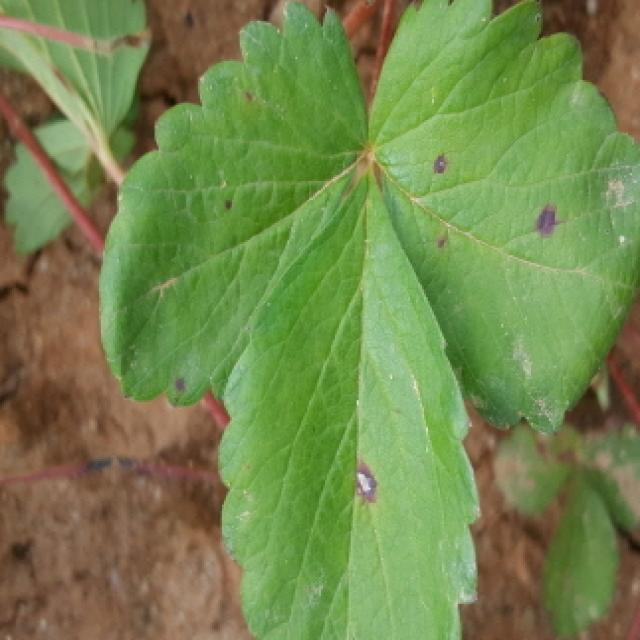Leaf Spot: (217, 161, 481, 640), (368, 0, 640, 438), (99, 0, 369, 405), (491, 420, 583, 518)
